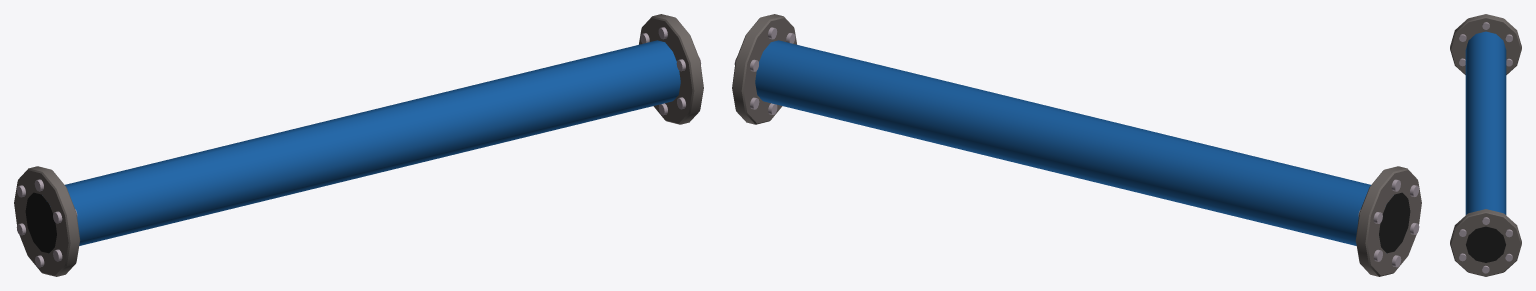
File: Pipe-Straight-002.fbx
The picture shows the model from 3 angles, left to right: view 1: azimuth 30°, elevation 25°; view 2: azimuth 150°, elevation 25°; view 3: azimuth 270°, elevation 25°; orthographic projection. The views are drawn at different scales.
Parts seen in each view (by area): view 1: Pipe-Straight-002; view 2: Pipe-Straight-002; view 3: Pipe-Straight-002.
Boxes of the visible parts, <box> form: Pipe-Straight-002: <box>14,14,703,276</box>; Pipe-Straight-002: <box>732,14,1421,276</box>; Pipe-Straight-002: <box>1450,14,1521,276</box>.
Bounding box in the file's own units: 14.45 × 2.18 × 2.18.
